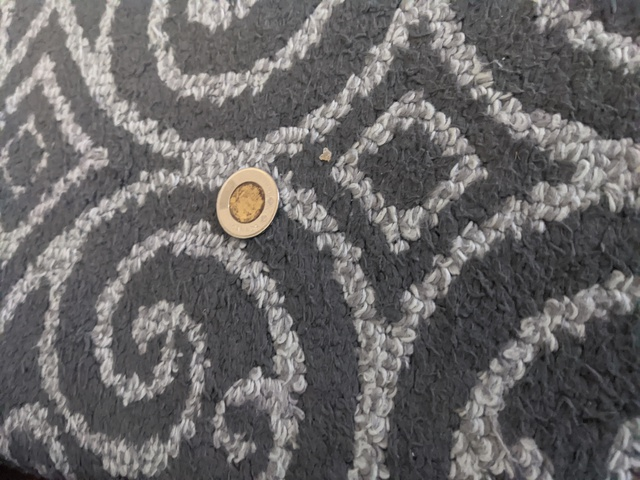twonie: (210, 164, 284, 250)
